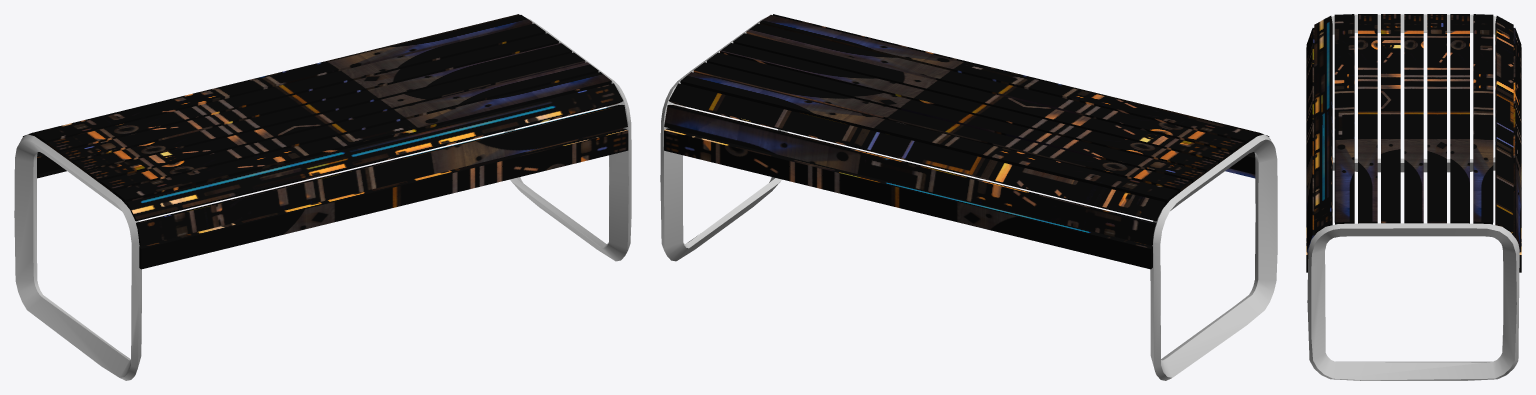
File: Modern Bench 1.fbx
3 renders of one model, left to right at view 1: azimuth 30°, elevation 25°; view 2: azimuth 150°, elevation 25°; view 3: azimuth 270°, elevation 25°, orthographic. The views are drawn at different scales.
Parts seen in each view (by area): view 1: Modern Bench 1; view 2: Modern Bench 1; view 3: Modern Bench 1.
Boxes of the visible parts, x1,y1,x2,y2 form: Modern Bench 1: (14, 14, 631, 380); Modern Bench 1: (660, 14, 1277, 380); Modern Bench 1: (1306, 14, 1521, 380).
Bounding box in the file's own units: 130 × 45.19 × 55.56.
